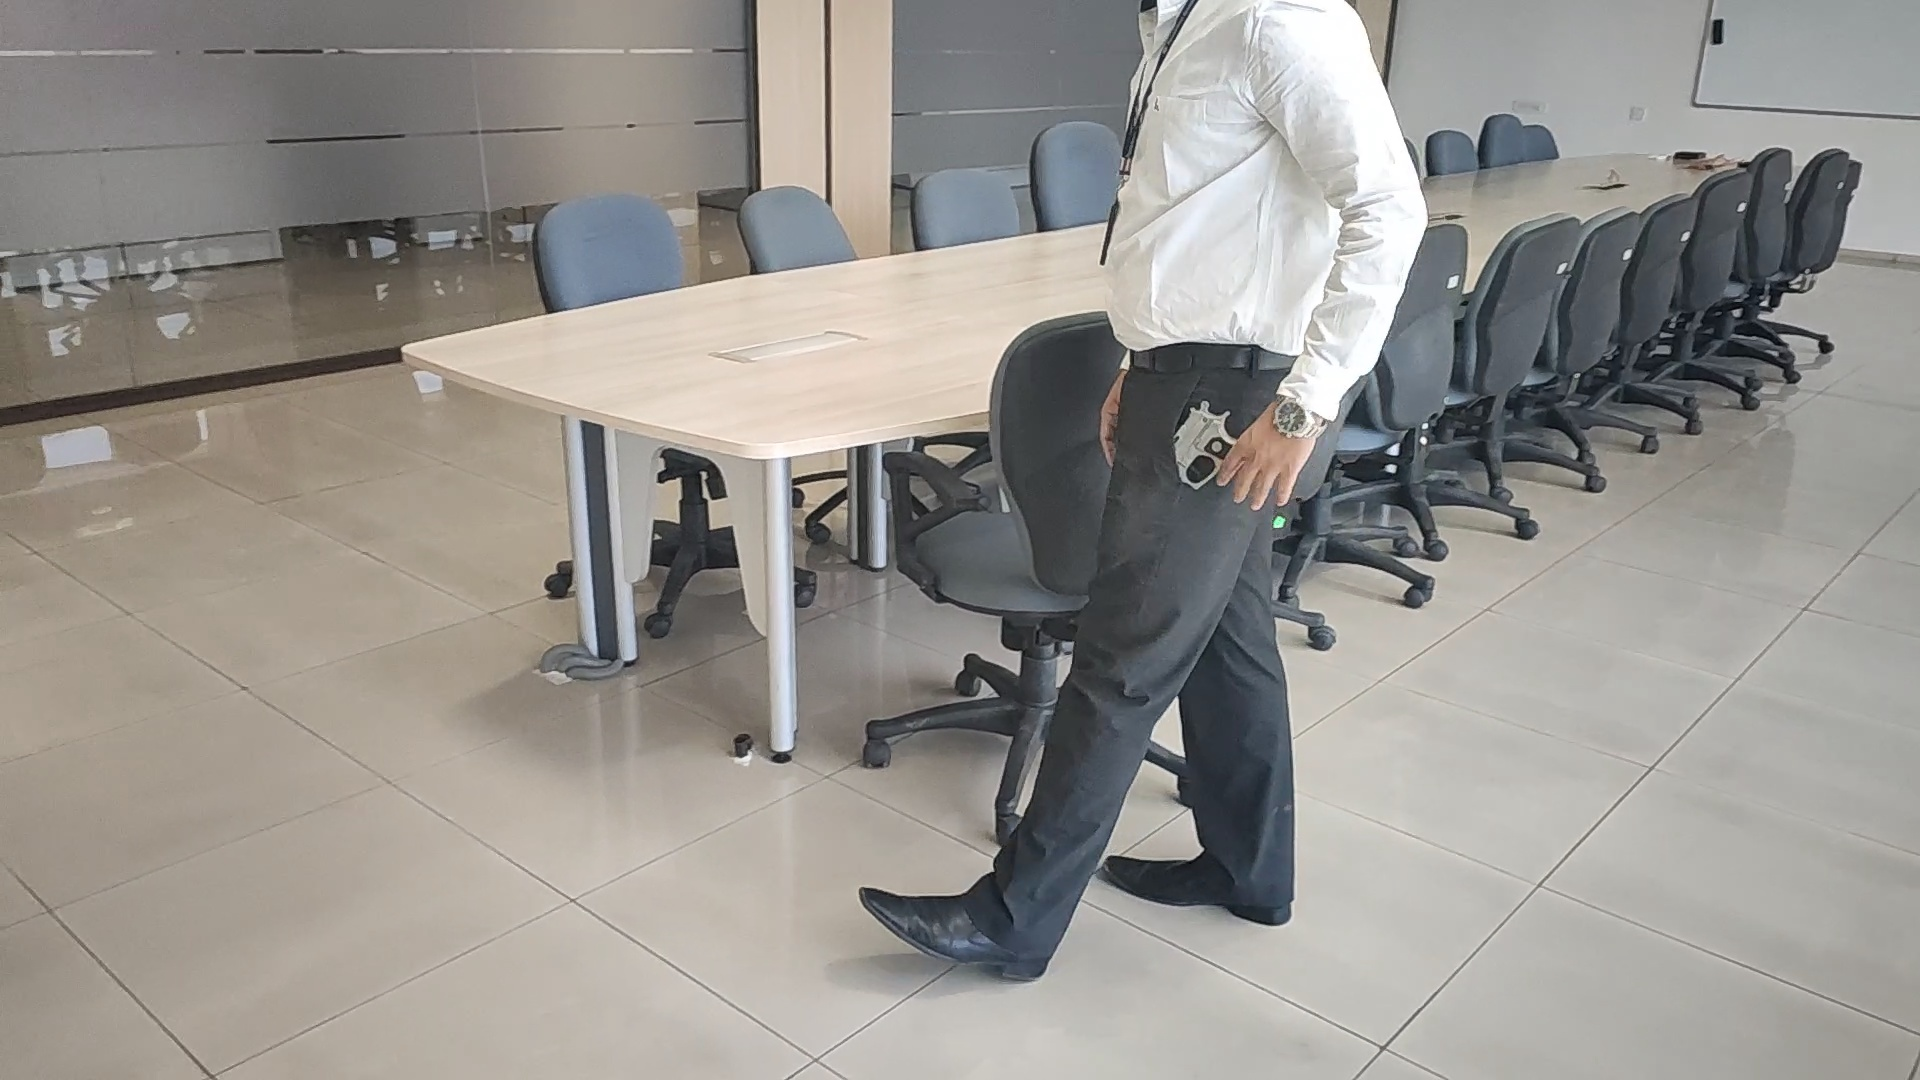gun: (1172, 400, 1236, 493)
